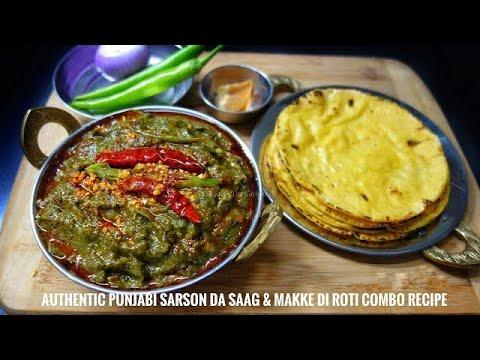saag: (43, 119, 250, 288)
